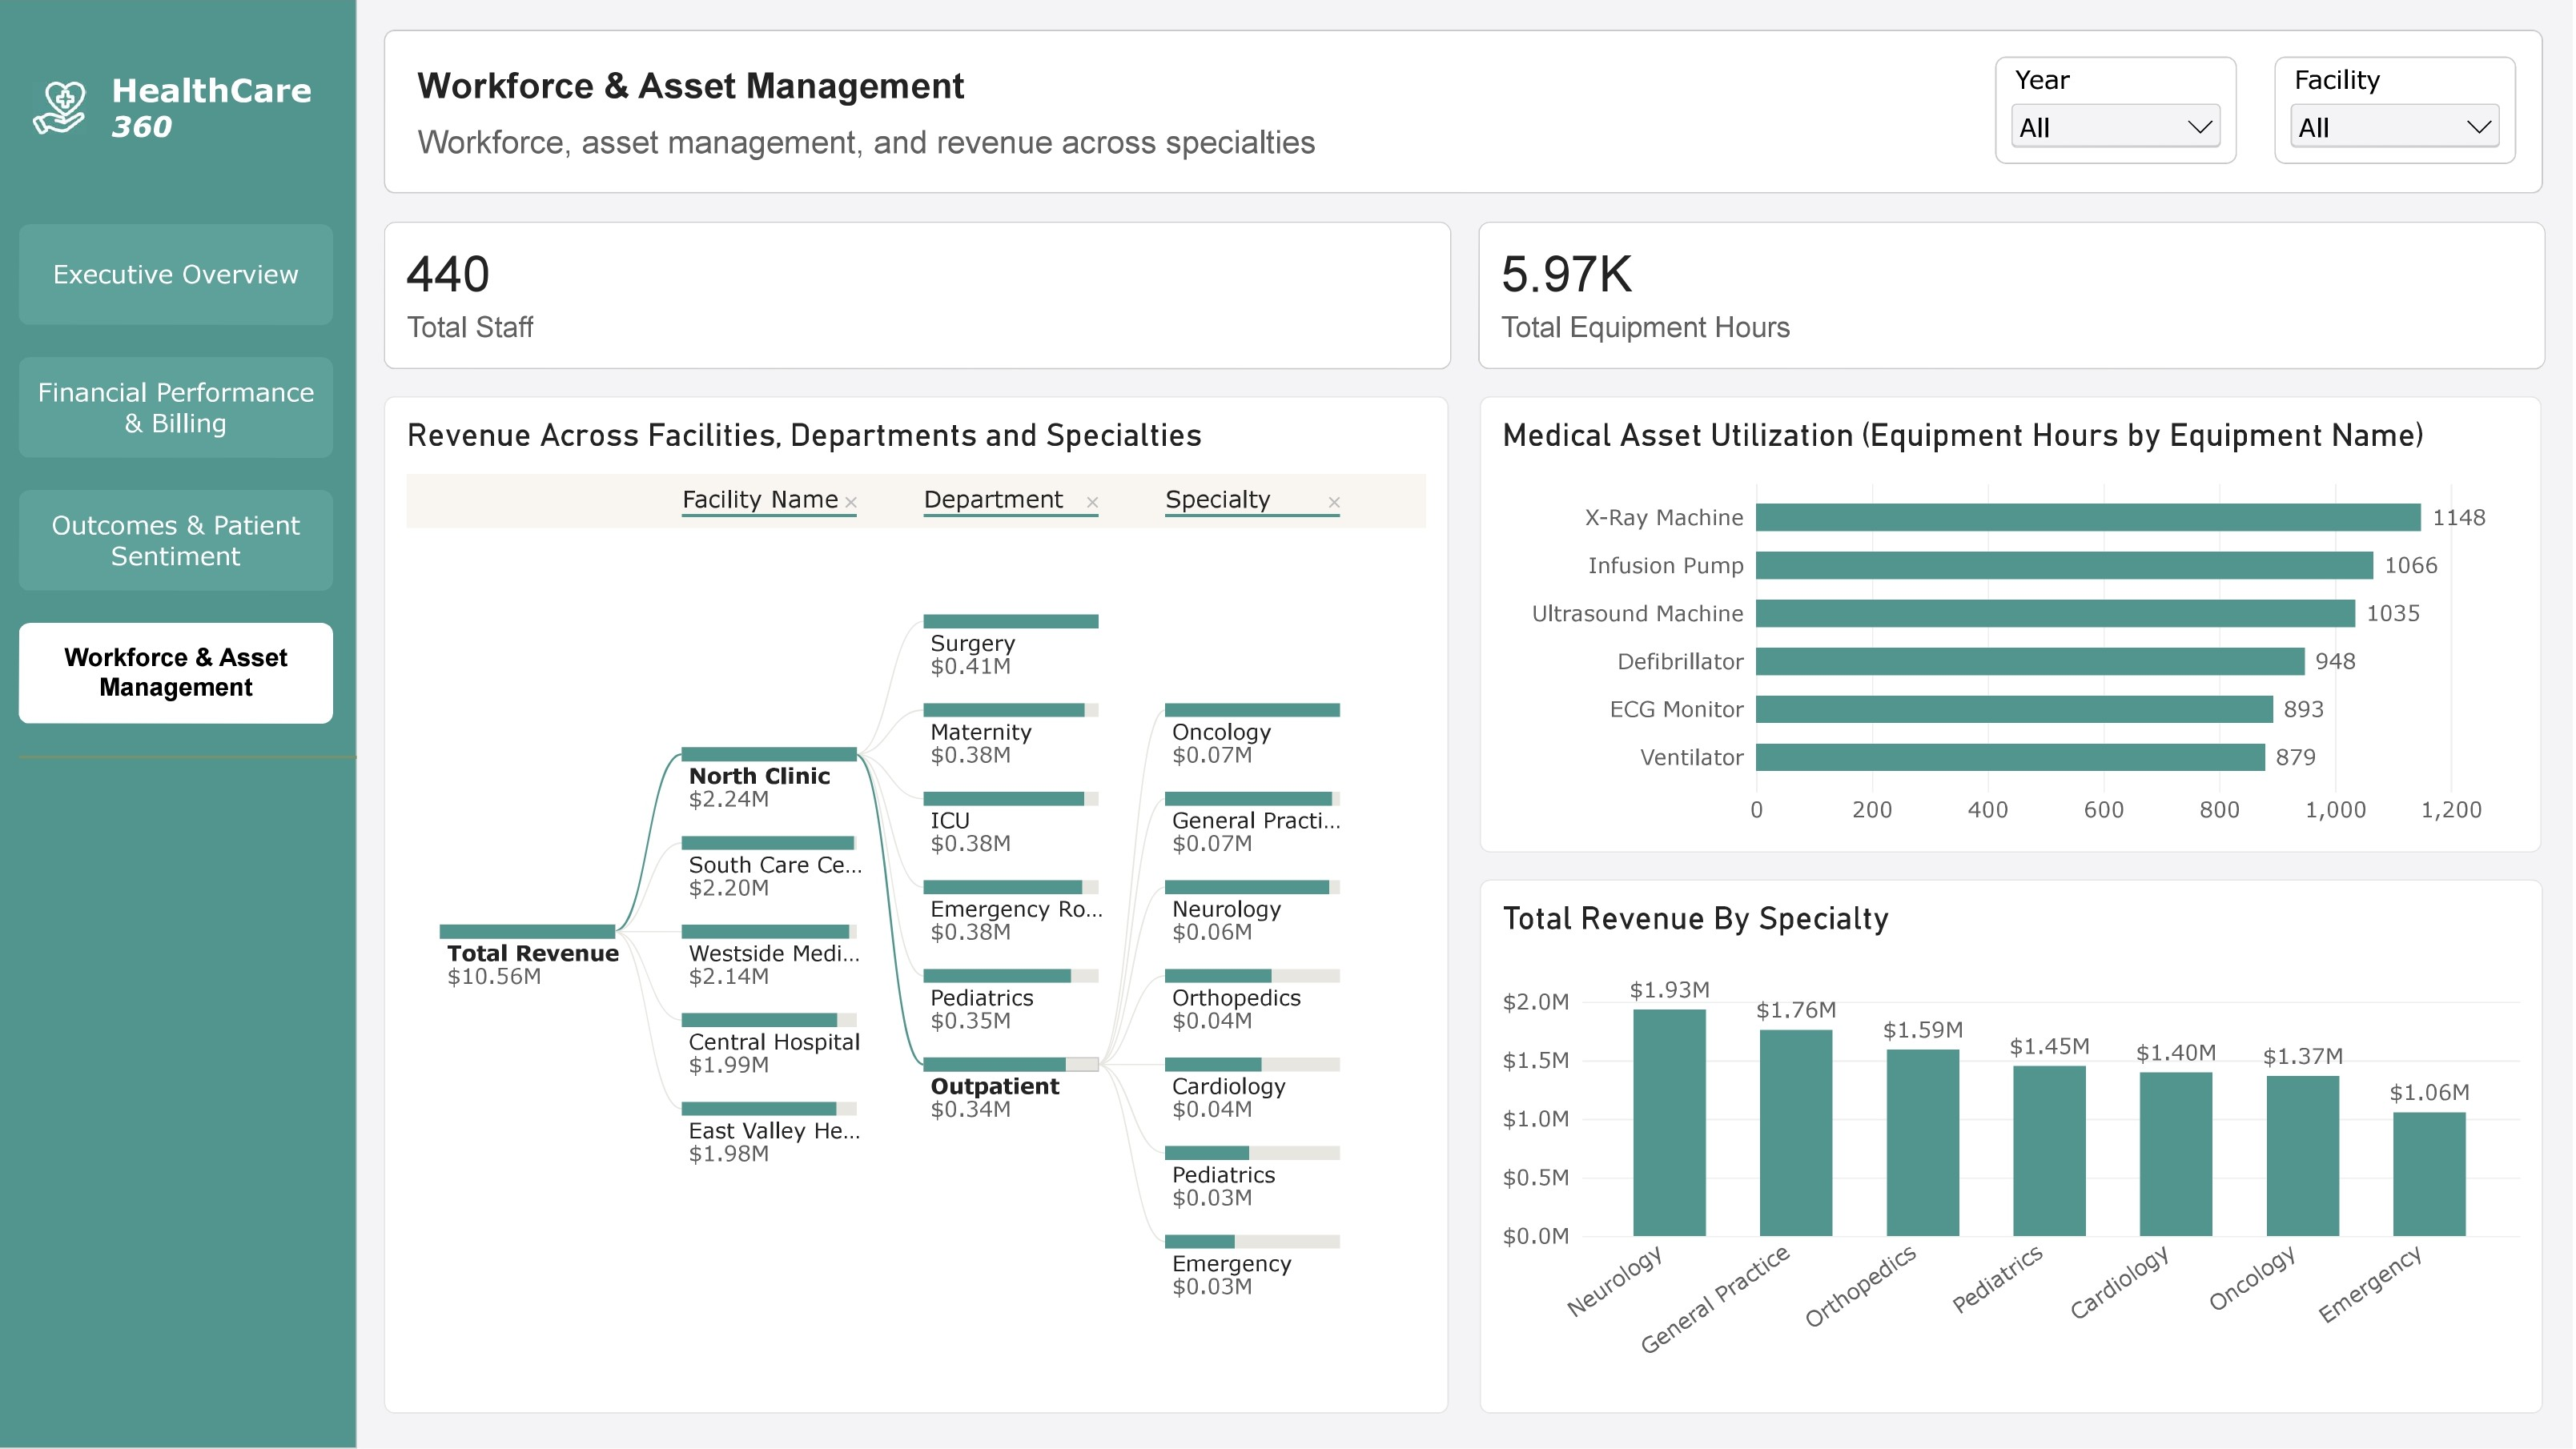

This screenshot's page, from the dashboard's own definition file:
{"tool":"powerbi","page":{"name":"Workforce & Asset Management ","canvas":[1920,1080],"ordinal":3},"visuals":[{"type":"shape","box":[290,22.5,1607.5,122.5],"z":0},{"type":"textbox","box":[86.4,53.2,168.1,79.5],"z":0,"group":"g1"},{"type":"shape","box":[0,0,270,1080],"z":1000},{"type":"group","id":"g1","title":"Group 1","box":[86.4,53.2,168.1,79.5],"z":2000,"group":"g2"},{"type":"cardVisual","fields":{"Data":["_Measures.Total Staff","_Measures.Total Equipment Hours"]},"box":[290,166,1610,110],"z":2000},{"type":"shape","box":[17.7,540,252.3,50],"z":4000},{"type":"textbox","box":[315,50,515,42.5],"z":6000},{"type":"textbox","box":[315,92.5,767.5,35],"z":7000},{"type":"slicer","fields":{"Values":["Dim_Date.Year"]},"box":[1490,42.5,180,80],"z":8000},{"type":"slicer","fields":{"Values":["Dim_Facilities.FacilityName"]},"box":[1697.5,43.3,180,80],"z":10000},{"type":"clusteredBarChart","title":"Medical Asset Utilization (Equipment Hours by Equipment Name)","fields":{"Category":["Fact_Equipment_Usage.EquipmentName"],"Y":["_Measures.Total Equipment Hours"]},"box":[1106,296,791,339.7],"z":14001},{"type":"clusteredColumnChart","title":"Total Revenue By Specialty","fields":{"Category":["Dim_Providers.Specialty"],"Y":["_Measures.Total Revenue"]},"box":[1106,656,792,398],"z":14002},{"type":"decompositionTreeVisual","title":"Revenue Across Facilities, Departments and Specialties","fields":{"Analyze":["_Measures.Total Revenue"],"ExplainBy":["Dim_Facilities.FacilityName","Dim_Departments.DepartmentName","Dim_Providers.Specialty"]},"box":[290,296,793,758],"z":14003},{"type":"pageNavigator","box":[18.2,168.1,233.9,372.5],"z":14004},{"type":"group","id":"g2","title":"Group 2","box":[18.8,53.2,235.6,79.5],"z":14005},{"type":"image","box":[18.8,62.3,59.1,38.6],"z":16000,"group":"g2"}]}

Visuals, with their boxes on the page's 1920x1080 design canvas (x1, y1, x2, y2). These are canvas units, not pixel positions in the 2576x1449 screenshot, which may show the page scaled, cropped or inside an application window:
shape: 290, 22, 1898, 145
textbox: 86, 53, 254, 133
shape: 0, 0, 270, 1080
"Group 1" group: 86, 53, 254, 133
cardVisual - _Measures.Total Staff x _Measures.Total Equipment Hours: 290, 166, 1900, 276
shape: 18, 540, 270, 590
textbox: 315, 50, 830, 92
textbox: 315, 92, 1082, 128
slicer - Dim_Date.Year: 1490, 42, 1670, 122
slicer - Dim_Facilities.FacilityName: 1698, 43, 1878, 123
"Medical Asset Utilization (Equipment Hours by Equipment Name)" clusteredBarChart: 1106, 296, 1897, 636
"Total Revenue By Specialty" clusteredColumnChart: 1106, 656, 1898, 1054
"Revenue Across Facilities, Departments and Specialties" decompositionTreeVisual: 290, 296, 1083, 1054
pageNavigator: 18, 168, 252, 541
"Group 2" group: 19, 53, 254, 133
image: 19, 62, 78, 101
